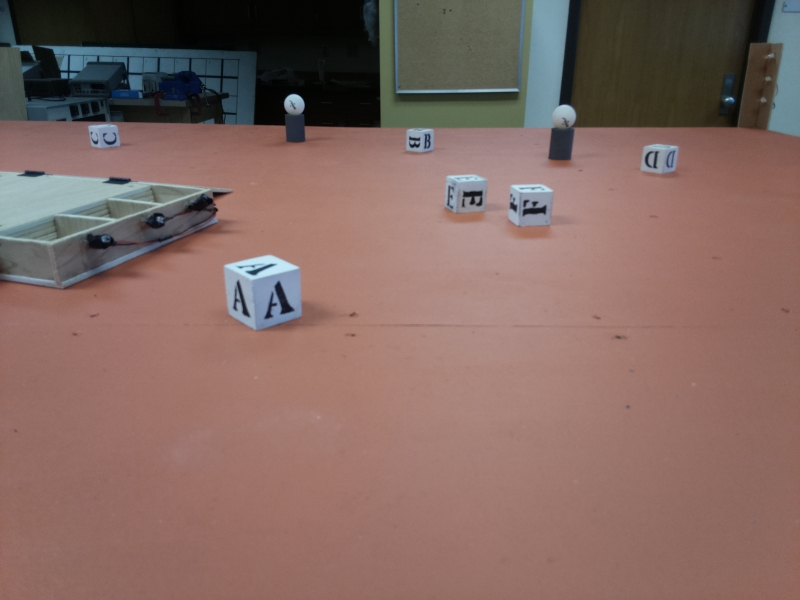blockA: (226, 254, 302, 329)
blockB: (405, 125, 433, 158)
blockC: (89, 123, 121, 152)
blockD: (639, 142, 686, 178)
blockE: (444, 171, 487, 220)
blockF: (507, 179, 560, 233)
corner: (740, 43, 784, 128)
obstacle: (544, 103, 577, 167), (281, 89, 310, 147)
side: (59, 188, 217, 286)
